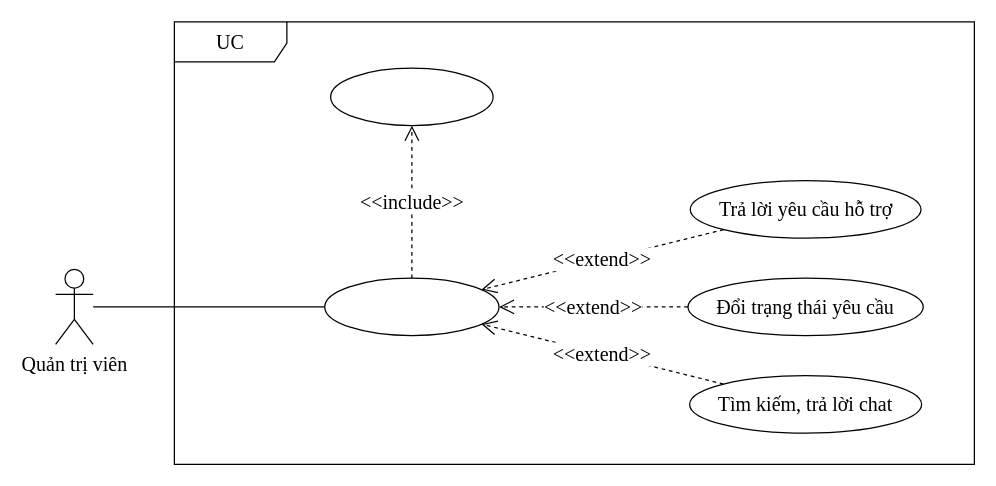
Image size: 996x486. Some labels were removed from this diagram. The shapes that lost their labels are listed below. From the top down, each one's centre as x and y in pixels, then its label:
At (411,96): "Đăng nhập".
At (411,306): "Quản lý hỗ trợ".
